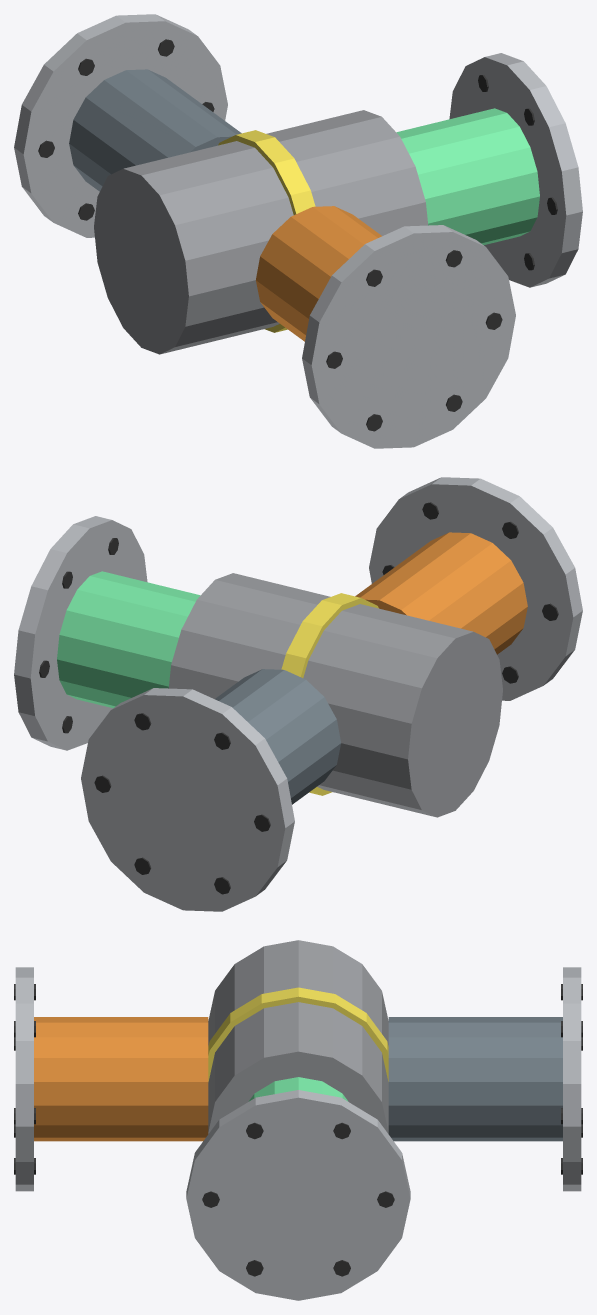
Rendered from t junction.fbx.
The picture shows the model from 3 angles, top to bottom: view 1: azimuth 30°, elevation 25°; view 2: azimuth 150°, elevation 25°; view 3: azimuth 270°, elevation 25°; orthographic projection. The views are drawn at different scales.
Visible parts, largest first — view 1: H2_CO2_MixingPoint; view 2: H2_CO2_MixingPoint; view 3: H2_CO2_MixingPoint.
Boxes of the visible parts, x1=… form: H2_CO2_MixingPoint: x1=14, y1=14, x2=582, y2=448; H2_CO2_MixingPoint: x1=14, y1=477, x2=582, y2=911; H2_CO2_MixingPoint: x1=14, y1=940, x2=582, y2=1300.
Bounding box in the file's own units: 57.5 × 30.6 × 77.65.
